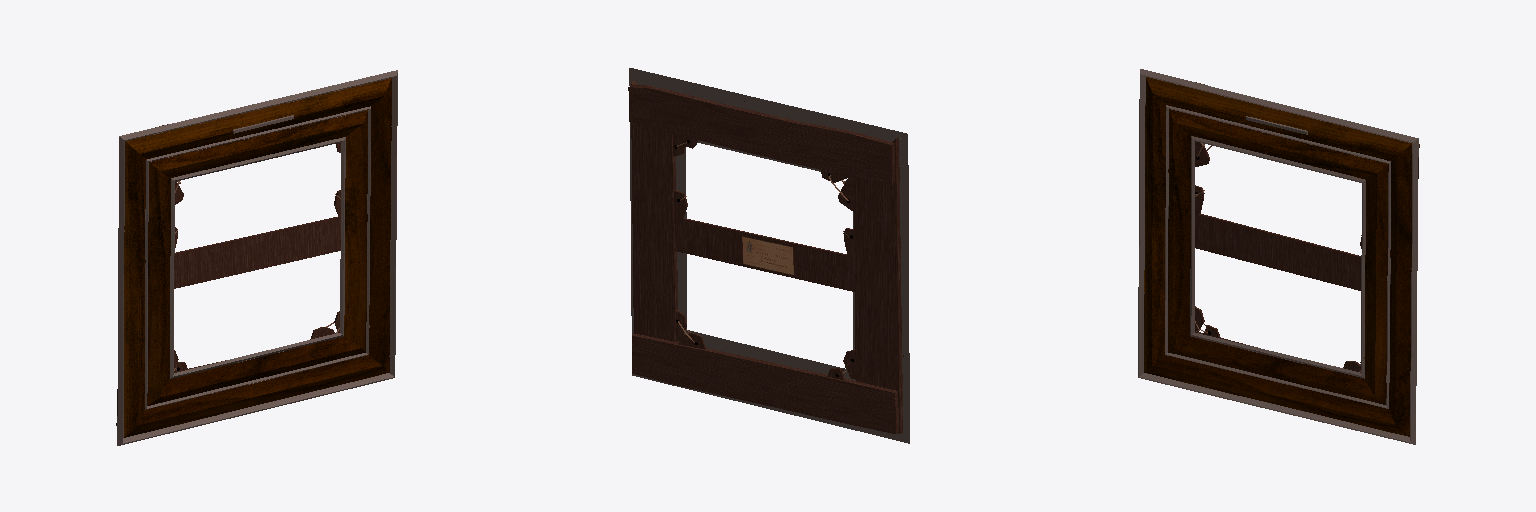
The picture shows the model from 3 angles: view 1: azimuth 30°, elevation 25°; view 2: azimuth 150°, elevation 25°; view 3: azimuth 330°, elevation 25°; orthographic projection.
Parts seen in each view (by area): view 1: lijst, Painting_frame, initialShadingGroup_Painting_frame; view 2: Painting_frame, lijst; view 3: lijst, Painting_frame, initialShadingGroup_Painting_frame.
Part boxes in pixels (left/top/right/bottom): lijst: left=117, top=70, right=397, bottom=445; Painting_frame: left=116, top=124, right=340, bottom=425; initialShadingGroup_Painting_frame: left=174, top=143, right=340, bottom=372; Painting_frame: left=628, top=81, right=902, bottom=433; lijst: left=629, top=68, right=909, bottom=443; lijst: left=1138, top=69, right=1418, bottom=444; Painting_frame: left=1195, top=82, right=1419, bottom=347; initialShadingGroup_Painting_frame: left=1195, top=141, right=1361, bottom=372.
Bounding box in the file's own units: 0.7316 × 0.7716 × 0.0528.
Materials: 2 (2 with a texture image).